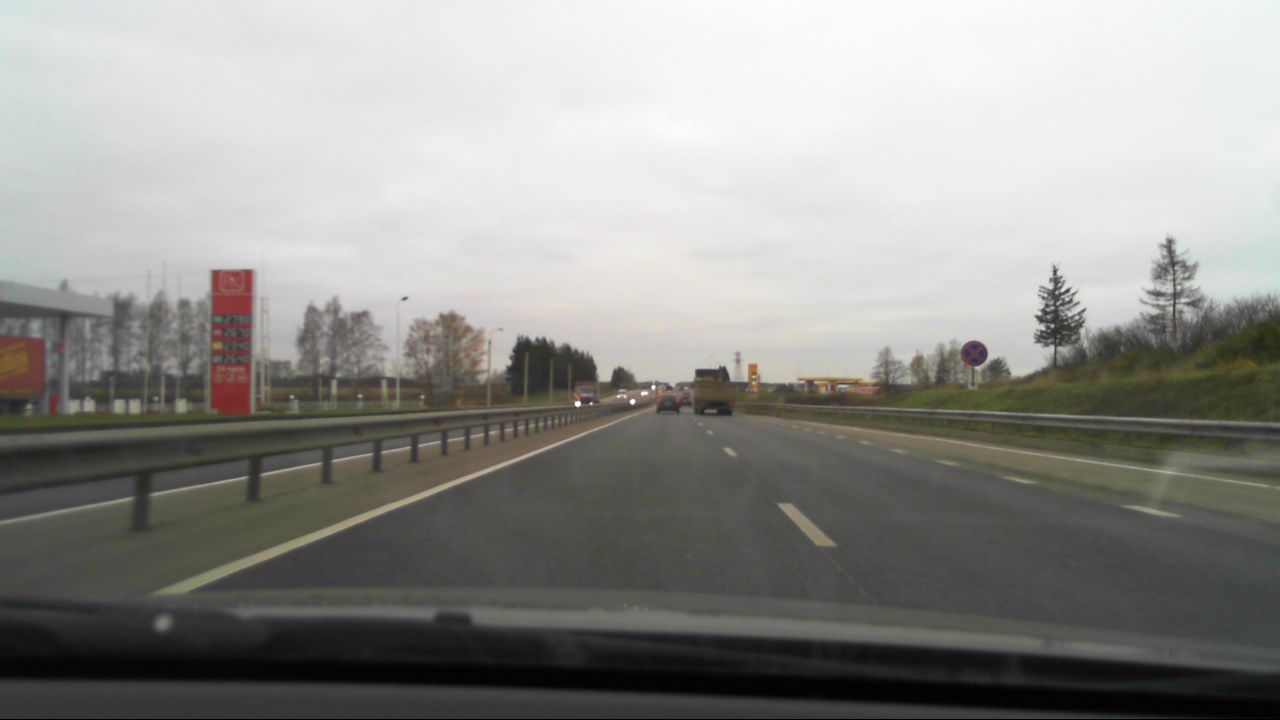No Parking: (958, 338, 990, 368)
